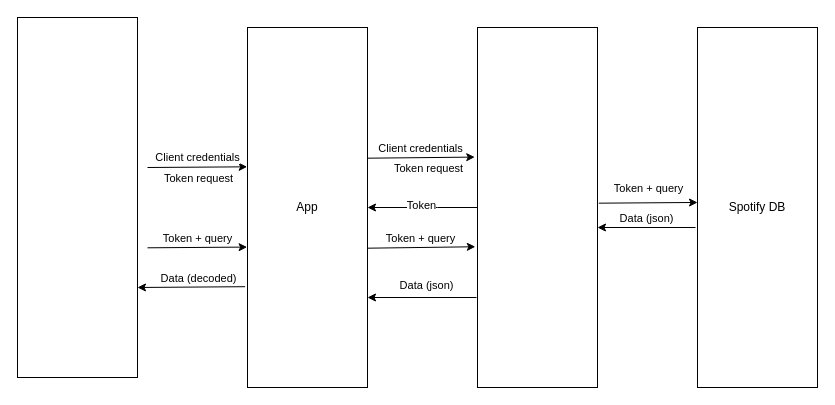
This 835x405 diagram has some shape labels left out. The shapes that lost their labels are listed below. From the top down, each one's centre as x and y in pixels, then its label:
point 77,197: GUI
point 537,207: Spotify API
